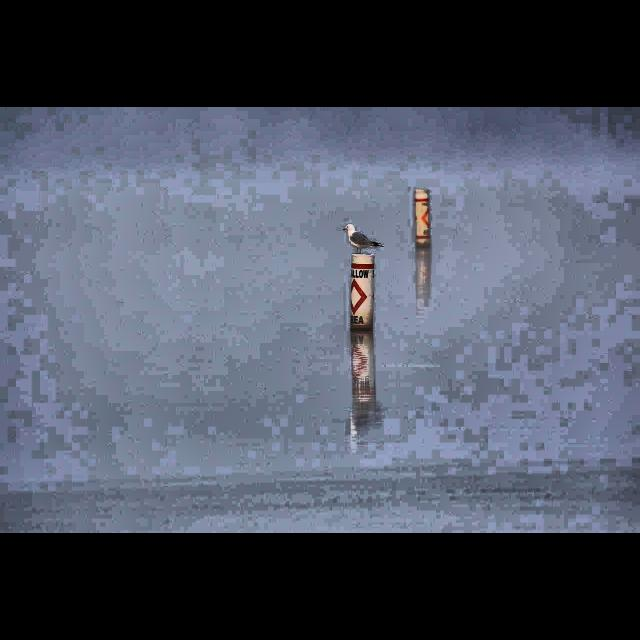buoy: (350, 252, 376, 334), (413, 190, 432, 250)
